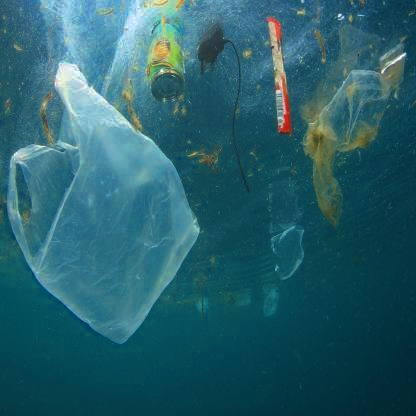can: (149, 10, 185, 102)
electronics: (198, 22, 251, 195)
pbag: (7, 60, 201, 346), (302, 69, 390, 230), (268, 226, 306, 283), (262, 288, 280, 318)
plastic: (265, 15, 294, 139)
